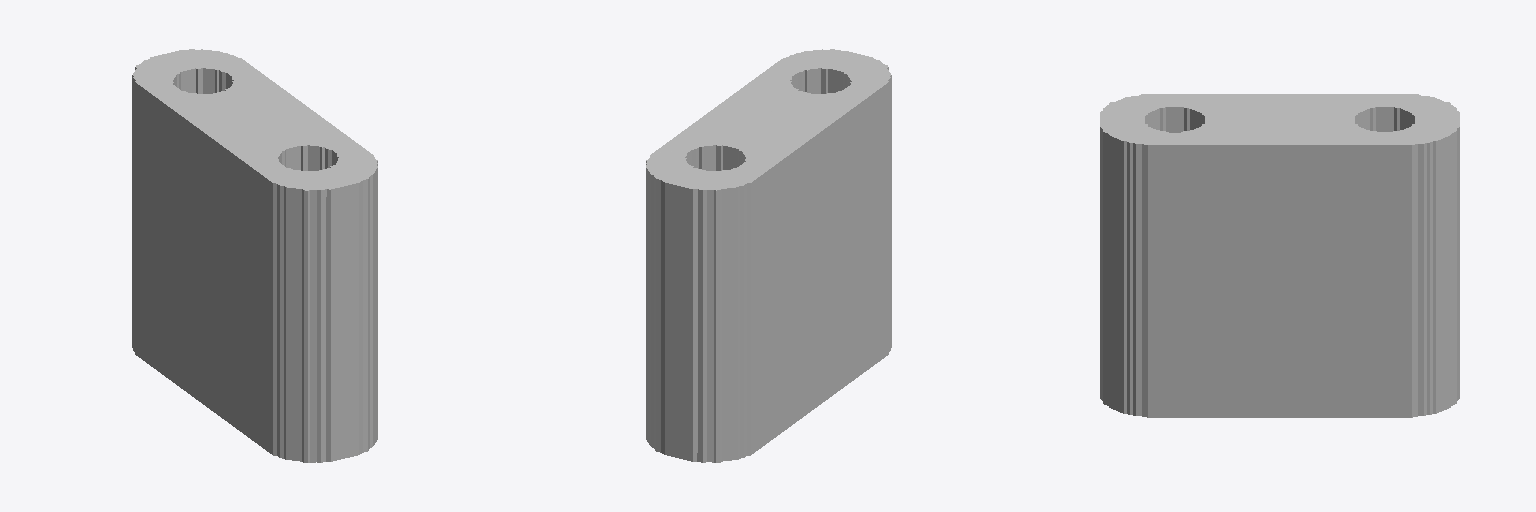
File: Lockbody.exported.obj
3 renders of one model, left to right at view 1: azimuth 30°, elevation 25°; view 2: azimuth 150°, elevation 25°; view 3: azimuth 270°, elevation 25°, orthographic.
Parts seen in each view (by area): view 1: Lockbody; view 2: Lockbody; view 3: Lockbody.
Boxes of the visible parts, x1=… form: Lockbody: x1=132, y1=49, x2=377, y2=462; Lockbody: x1=646, y1=49, x2=891, y2=462; Lockbody: x1=1100, y1=94, x2=1459, y2=417.
Size of the model in its own units: 36.41 by 91.07 by 109.